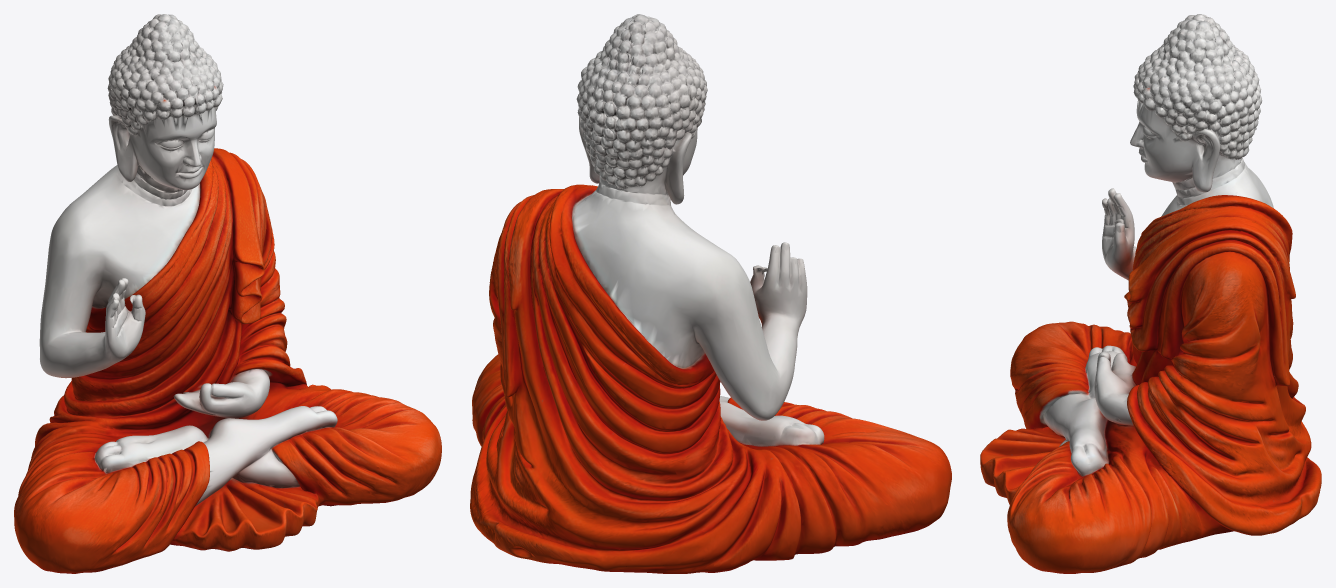
The model's file is buddha_6.glb.
3 views of the same model, side by side, from view 1: azimuth 30°, elevation 25°; view 2: azimuth 150°, elevation 25°; view 3: azimuth 270°, elevation 25° (orthographic). The views are drawn at different scales.
Visible parts, largest first — view 1: tripo_node_dcbbe255-6e36-423f-a3e2-a0e89ee9ab74; view 2: tripo_node_dcbbe255-6e36-423f-a3e2-a0e89ee9ab74; view 3: tripo_node_dcbbe255-6e36-423f-a3e2-a0e89ee9ab74.
Part boxes in pixels (left/top/right/bottom): tripo_node_dcbbe255-6e36-423f-a3e2-a0e89ee9ab74: left=14, top=14, right=441, bottom=573; tripo_node_dcbbe255-6e36-423f-a3e2-a0e89ee9ab74: left=470, top=14, right=951, bottom=573; tripo_node_dcbbe255-6e36-423f-a3e2-a0e89ee9ab74: left=980, top=14, right=1321, bottom=573.
Bounding box in the file's own units: 0.916 × 0.9797 × 0.6507.
Materials: 1 (1 with a texture image).
